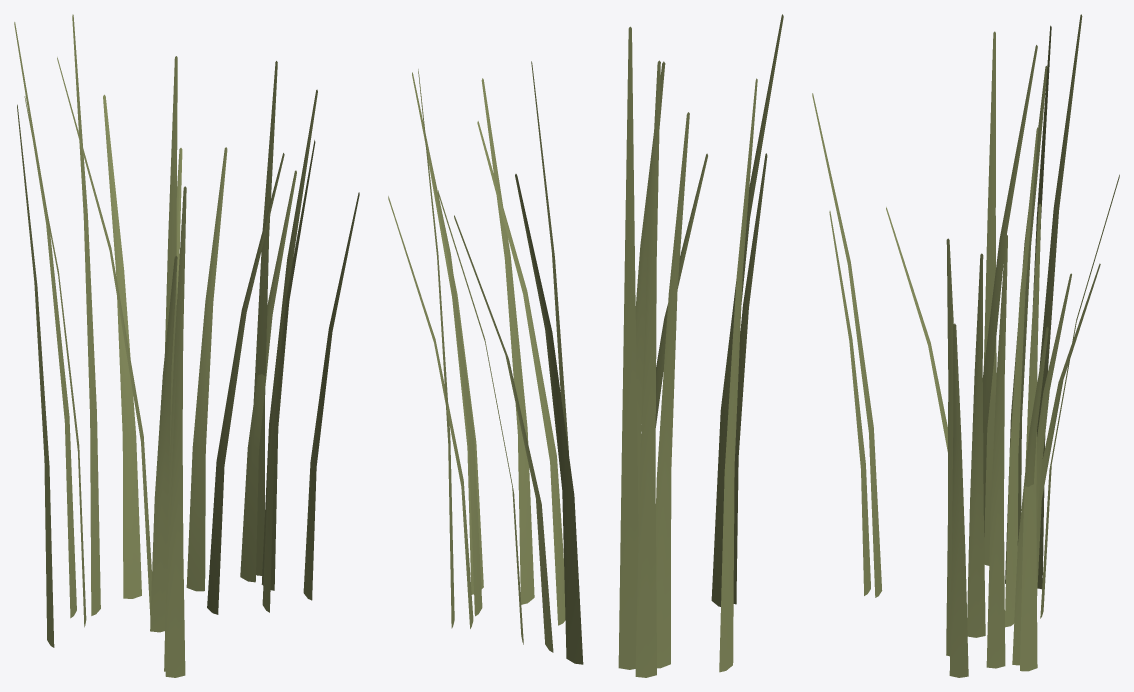
Rendered from deco_reeds.glb.
3 views of the same model, side by side, from view 1: azimuth 30°, elevation 25°; view 2: azimuth 150°, elevation 25°; view 3: azimuth 270°, elevation 25° (orthographic). The views are drawn at different scales.
Visible parts, largest first — view 1: body; view 2: body; view 3: body.
Part boxes in pixels (<box>): body: <box>14,14,359,677</box>; body: <box>388,14,783,677</box>; body: <box>812,14,1119,677</box>.
Size of the model in its own units: 0.7418 by 1.31 by 0.6471.
